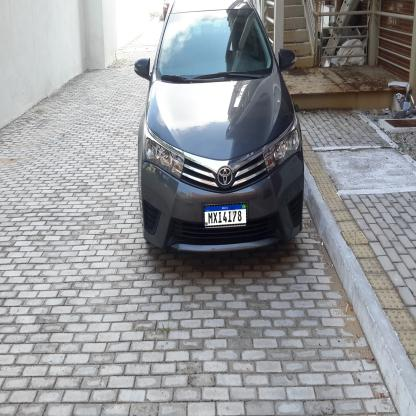PlacaM: (204, 203, 247, 227)
